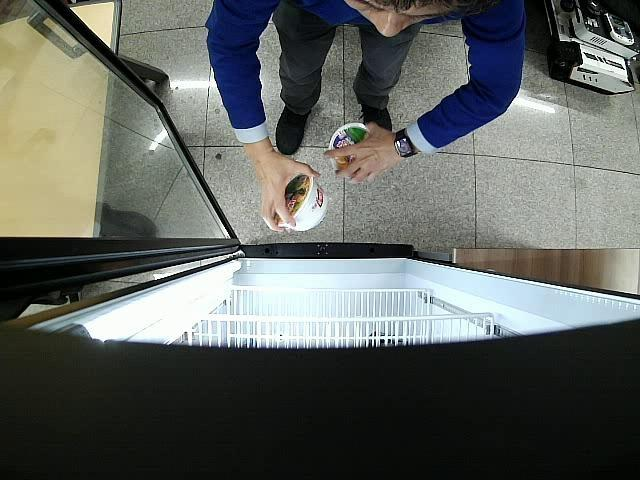09_yukGaeJang: (273, 174, 328, 230), (329, 122, 367, 178)
